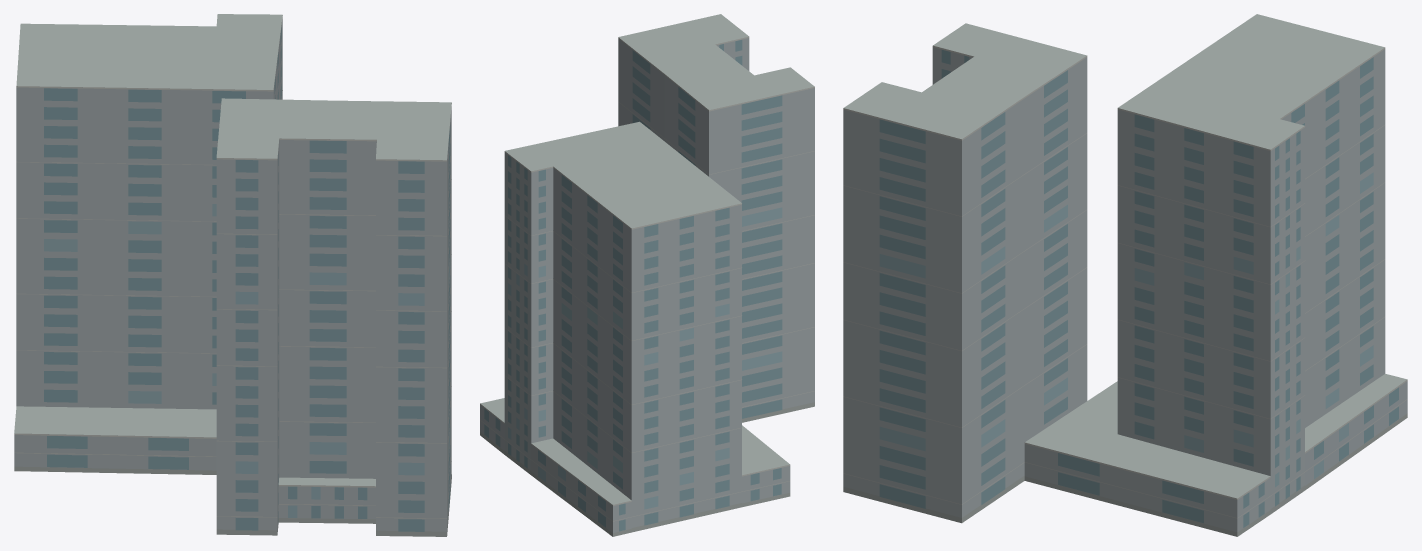
The model's file is residential-eb86c0a2-cfbd-45bc-97c3-f5d88b46e4d4.glb.
3 renders of one model, left to right at view 1: azimuth 30°, elevation 25°; view 2: azimuth 150°, elevation 25°; view 3: azimuth 270°, elevation 25°, orthographic. The views are drawn at different scales.
Visible parts, largest first — view 1: residential-eb86c0a2-cfbd-45bc-97c3-f5d88b46e4d4.tmp; view 2: residential-eb86c0a2-cfbd-45bc-97c3-f5d88b46e4d4.tmp; view 3: residential-eb86c0a2-cfbd-45bc-97c3-f5d88b46e4d4.tmp.
Part boxes in pixels (x1,y1,x2,y2): residential-eb86c0a2-cfbd-45bc-97c3-f5d88b46e4d4.tmp: (14,14,451,536); residential-eb86c0a2-cfbd-45bc-97c3-f5d88b46e4d4.tmp: (480,14,814,536); residential-eb86c0a2-cfbd-45bc-97c3-f5d88b46e4d4.tmp: (843,14,1407,536).
Bounding box in the file's own units: 58.91 × 61 × 81.24.
